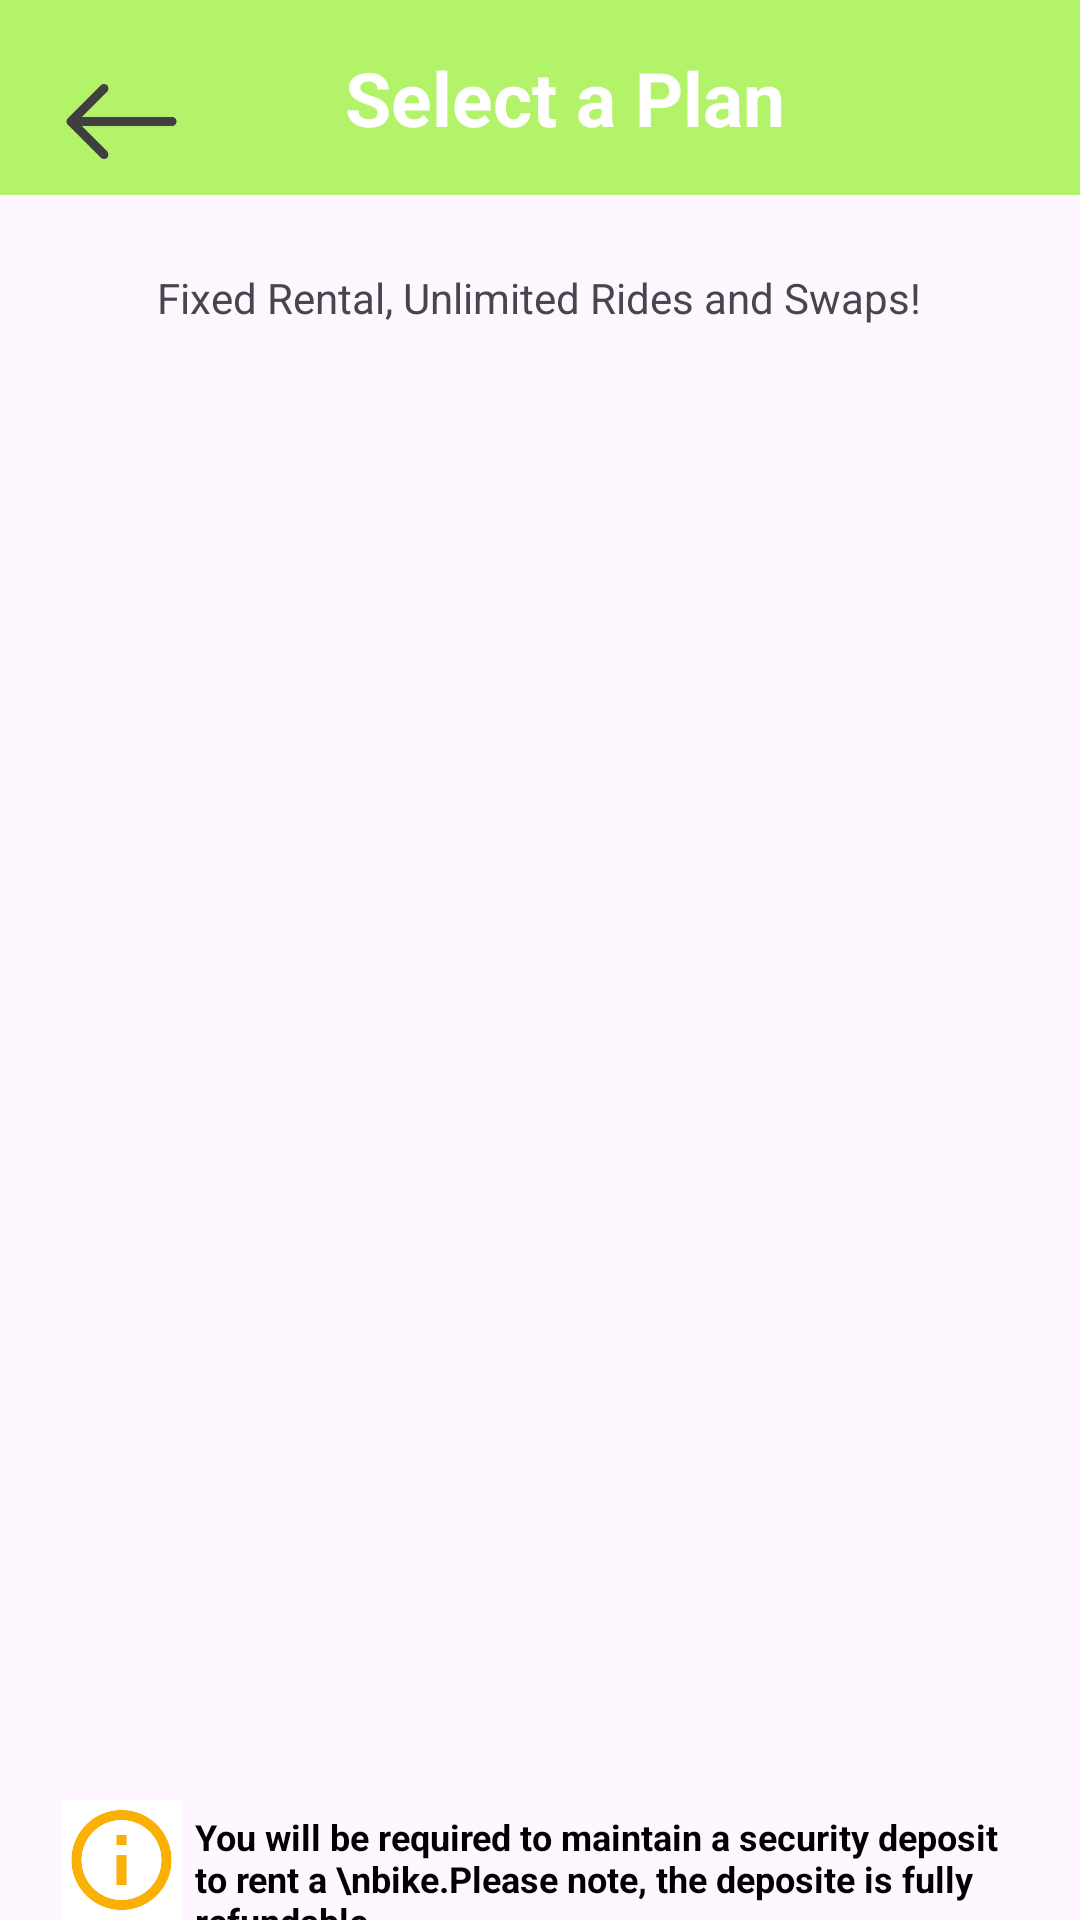

Where icons sit on this 1080x1920 app screen, as rect(x1, y1, x2, y2):
back: rect(66, 84, 177, 159)
info: rect(71, 1810, 172, 1910)
